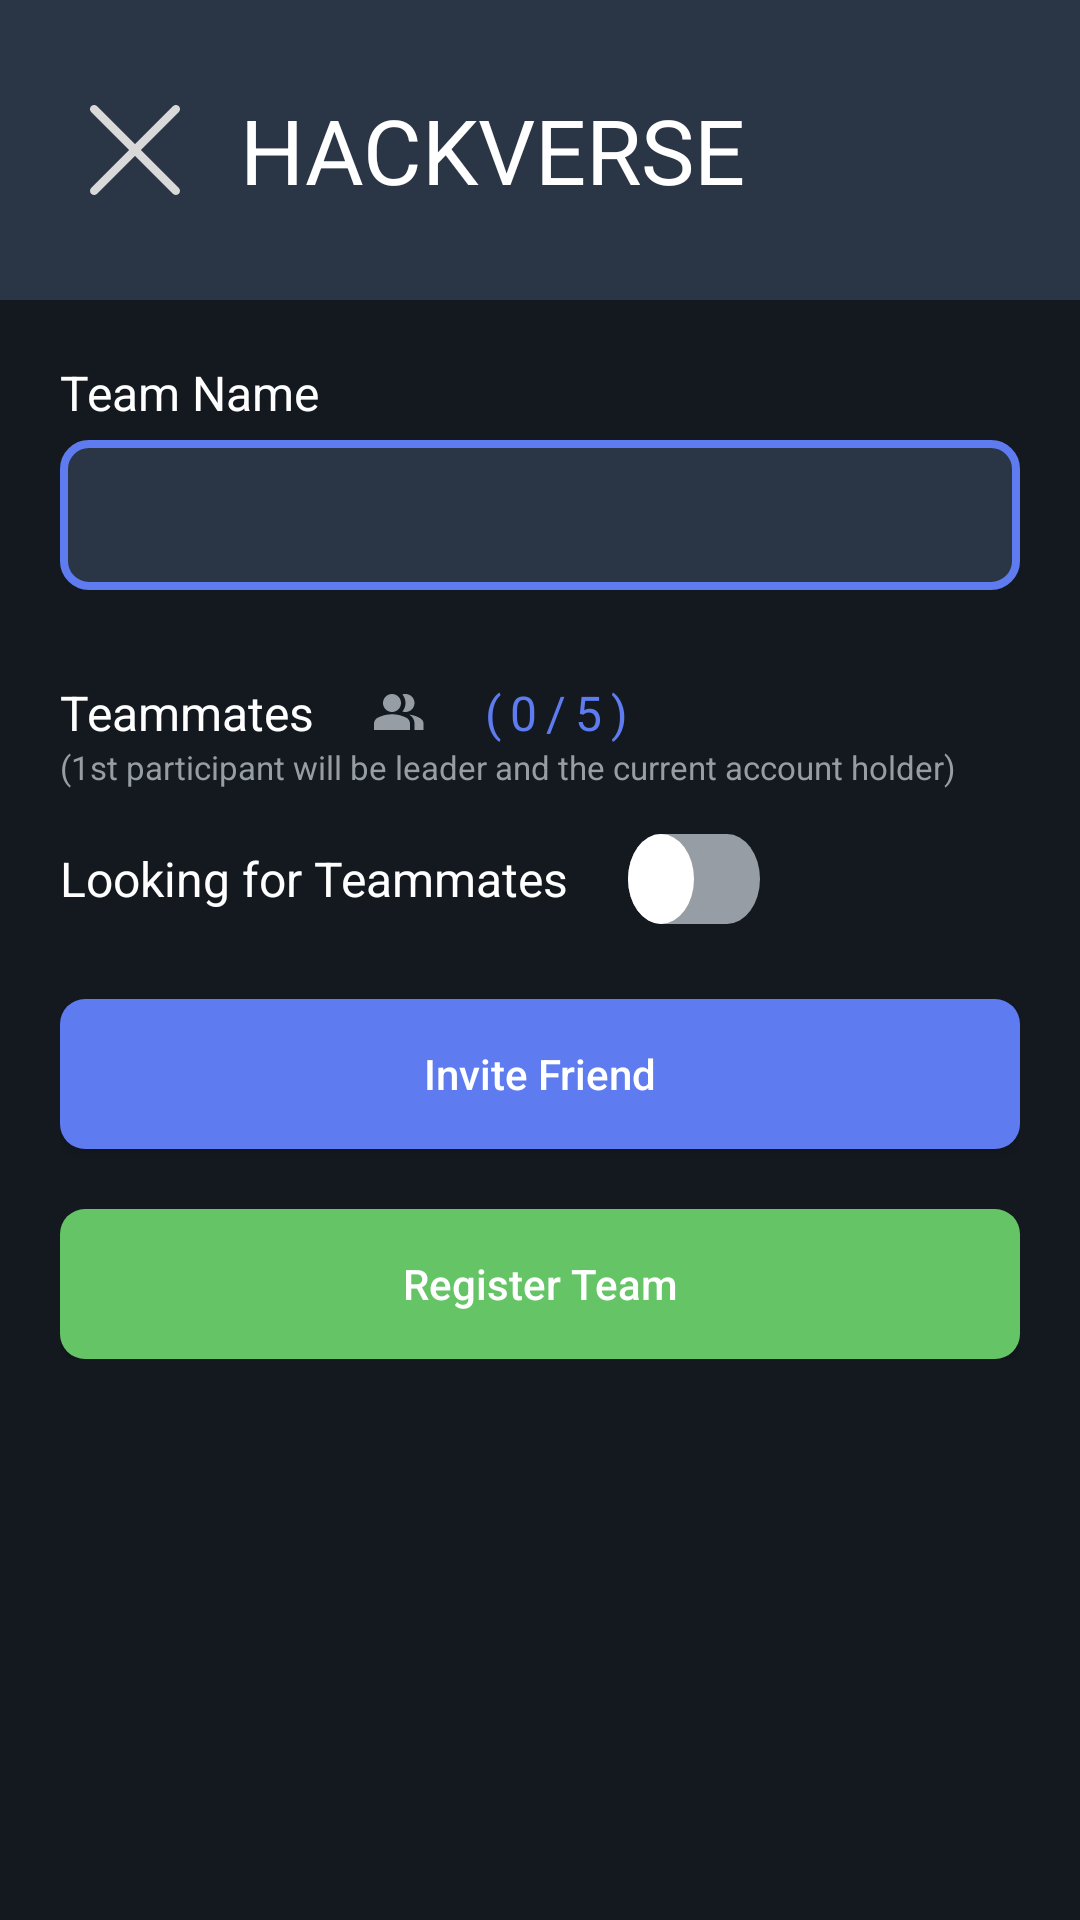

Screen size 1080 x 1920. Icon name, then its box in pixels as detection(x1, y1, x2, y2):
close: detection(90, 105, 180, 195)
groupico: detection(374, 694, 424, 730)
